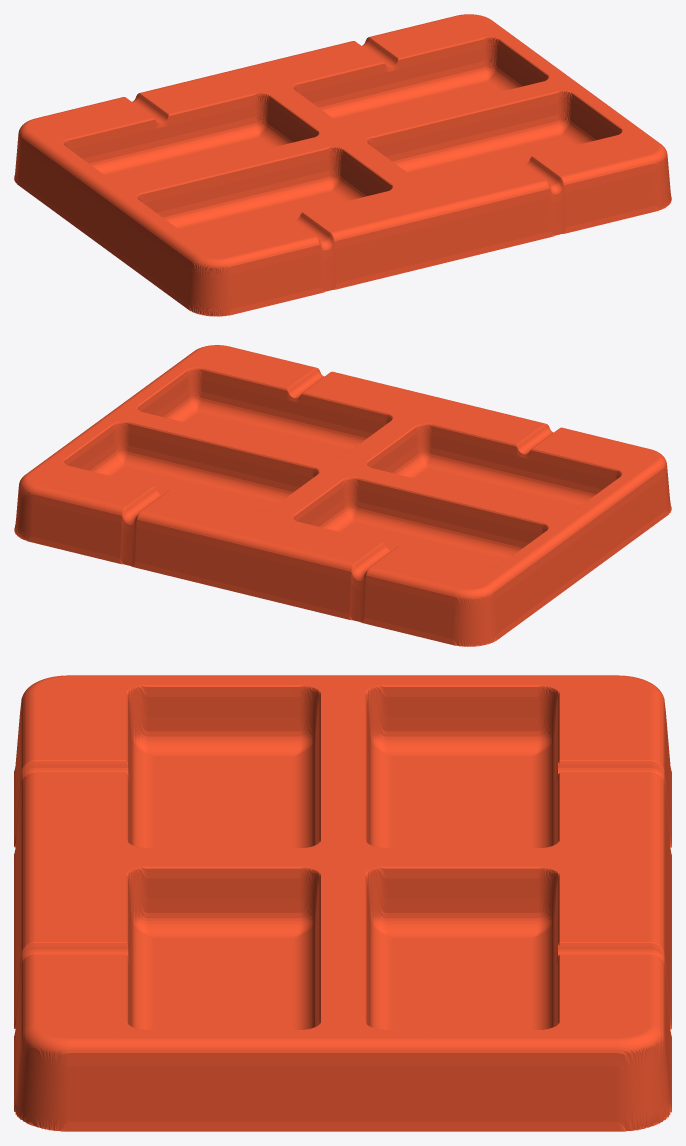
Rendered from mold.glb.
3 views of the same model, one above another, from view 1: azimuth 30°, elevation 25°; view 2: azimuth 150°, elevation 25°; view 3: azimuth 270°, elevation 25° (orthographic). The views are drawn at different scales.
Parts seen in each view (by area): view 1: geometry_0; view 2: geometry_0; view 3: geometry_0.
Boxes of the visible parts, x1,y1,x2,y2 form: geometry_0: (14, 14, 671, 316); geometry_0: (14, 345, 671, 646); geometry_0: (14, 675, 671, 1131).
Bounding box in the file's own units: 0.1497 × 0.0155 × 0.1096.
